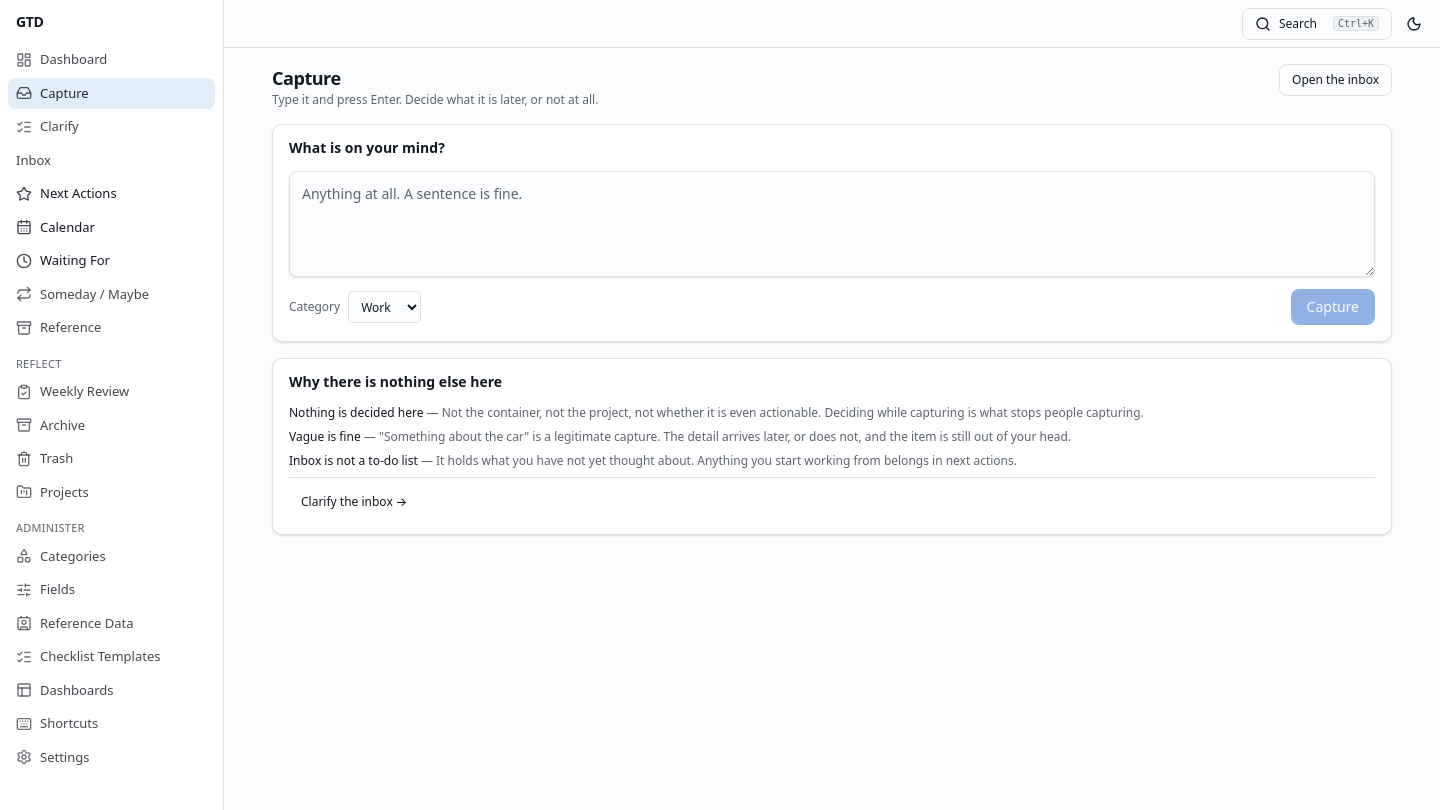
Test case: capture › counts what it captured rather than toasting each one
Type "One thing" into the text box named "Capture" at (832, 224), box [289,171,1375,277]
Then press Enter
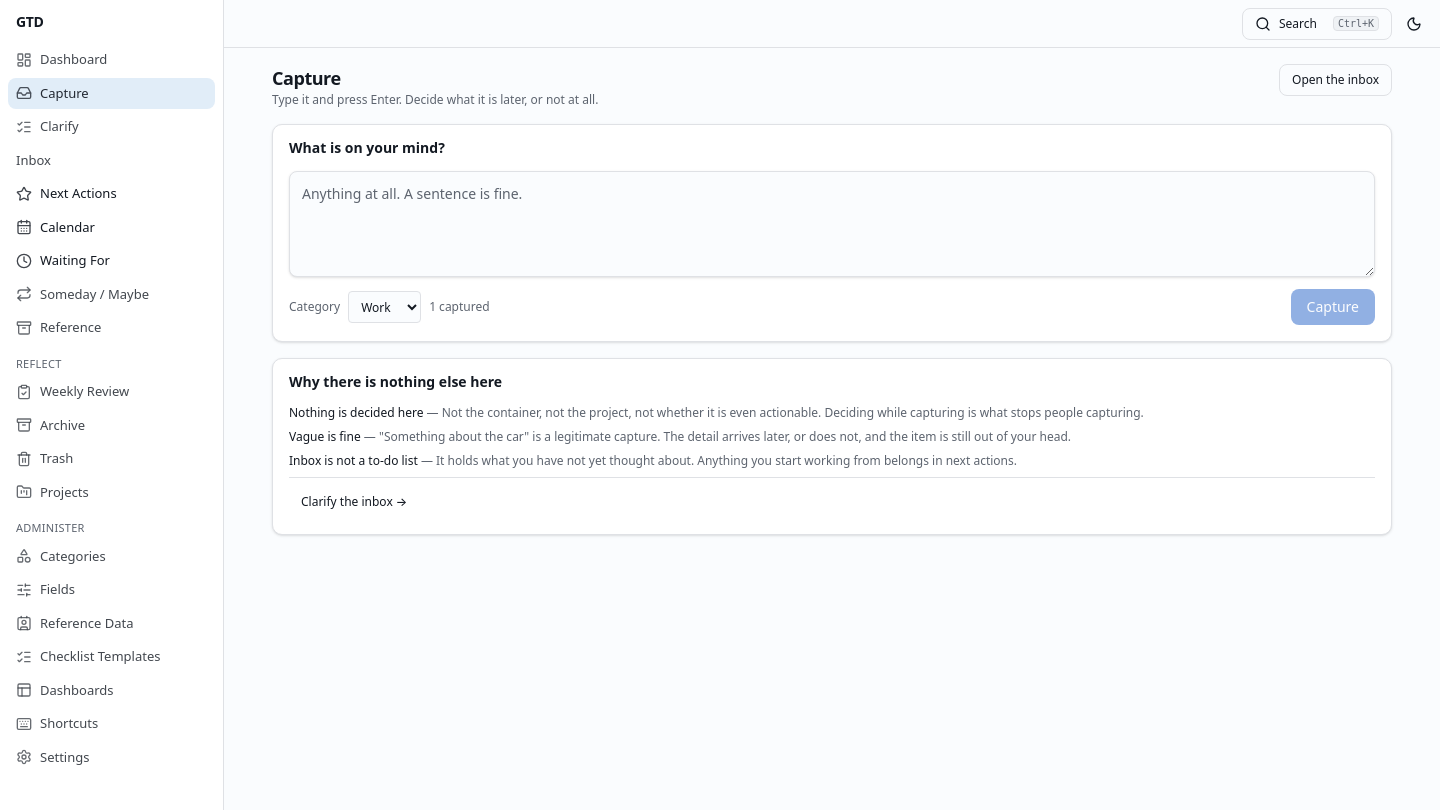
Now the text "1 captured" is shown, box [429,299,490,315]
